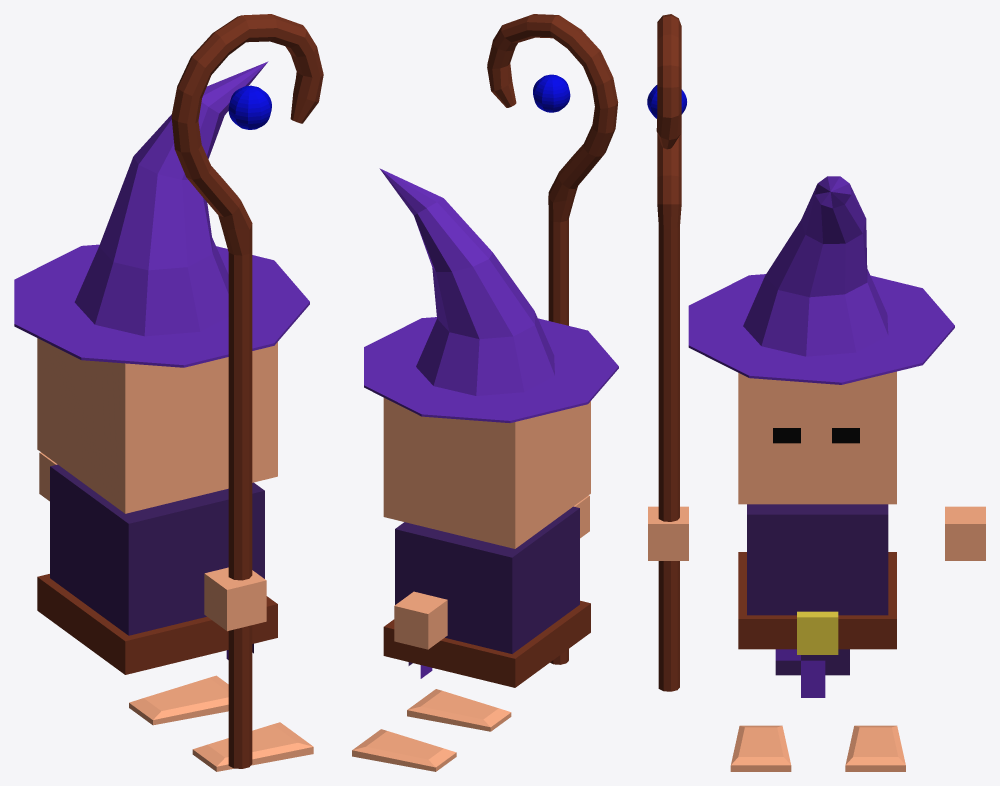
File: Wizard.fbx
The picture shows the model from 3 angles, left to right: view 1: azimuth 30°, elevation 25°; view 2: azimuth 150°, elevation 25°; view 3: azimuth 270°, elevation 25°; orthographic projection. The views are drawn at different scales.
Visible parts, largest first — view 1: Hat, Body, Head, Scepter, Hand1, Foot2, Foot1, Sphere; view 2: Hat, Body, Head, Scepter, Hand2, Foot1, Foot2, Sphere; view 3: Hat, Body, Head, Scepter, Foot1, Foot2, BeltP, Hand2, Hand1, Belt.
Boxes of the visible parts, bbox=[...] form: Hat: bbox=[14, 61, 309, 367]; Body: bbox=[37, 464, 277, 674]; Head: bbox=[37, 338, 277, 513]; Scepter: bbox=[171, 14, 323, 768]; Hand1: bbox=[204, 567, 266, 631]; Foot2: bbox=[129, 675, 228, 725]; Foot1: bbox=[192, 722, 313, 771]; Sphere: bbox=[228, 85, 271, 129]; Hat: bbox=[364, 168, 618, 422]; Body: bbox=[383, 506, 590, 687]; Head: bbox=[383, 398, 590, 548]; Scepter: bbox=[487, 14, 618, 664]; Hand2: bbox=[394, 591, 447, 649]; Foot1: bbox=[407, 689, 511, 731]; Foot2: bbox=[352, 729, 456, 771]; Sphere: bbox=[533, 74, 570, 112]; Hat: bbox=[688, 176, 954, 384]; Body: bbox=[738, 504, 896, 649]; Head: bbox=[738, 371, 896, 504]; Scepter: bbox=[656, 14, 681, 691]; Foot1: bbox=[730, 725, 791, 771]; Foot2: bbox=[845, 725, 905, 771]; BeltP: bbox=[775, 649, 849, 697]; Hand2: bbox=[945, 506, 985, 560]; Hand1: bbox=[648, 506, 688, 560]; Belt: bbox=[797, 611, 838, 654].
Size of the model in its own units: 341 by 988 by 427.
